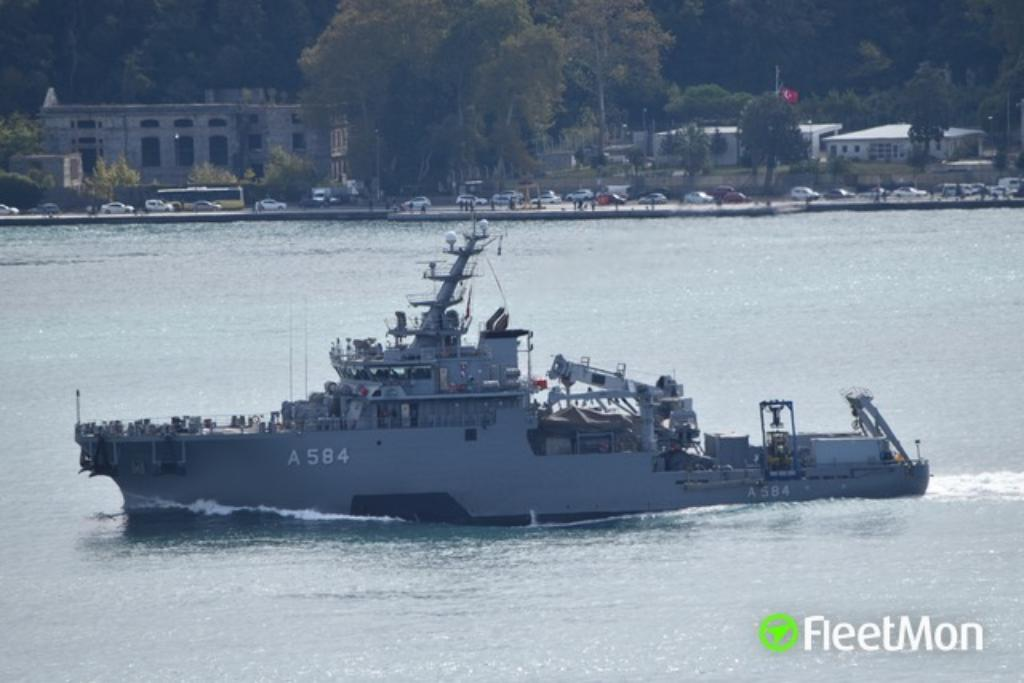Warship: (76, 214, 936, 526)
